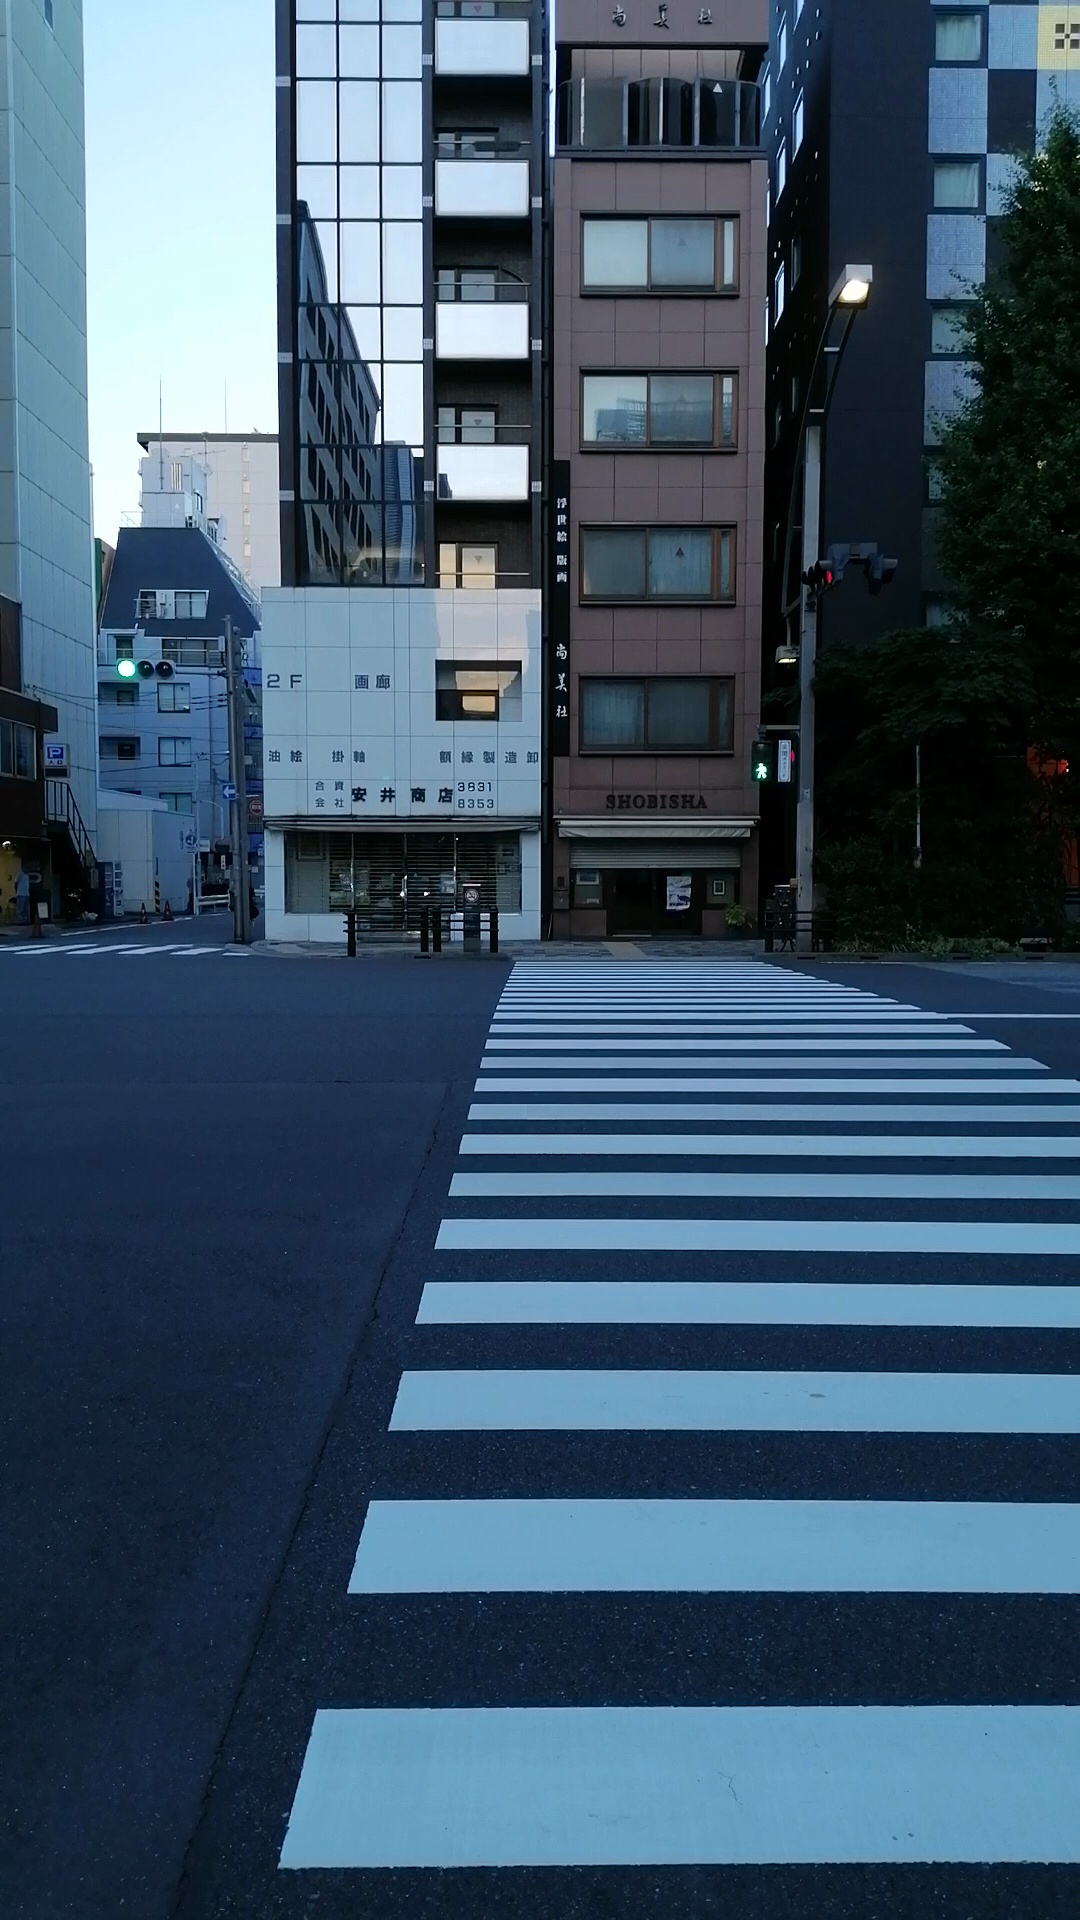green: (750, 737, 771, 783)
